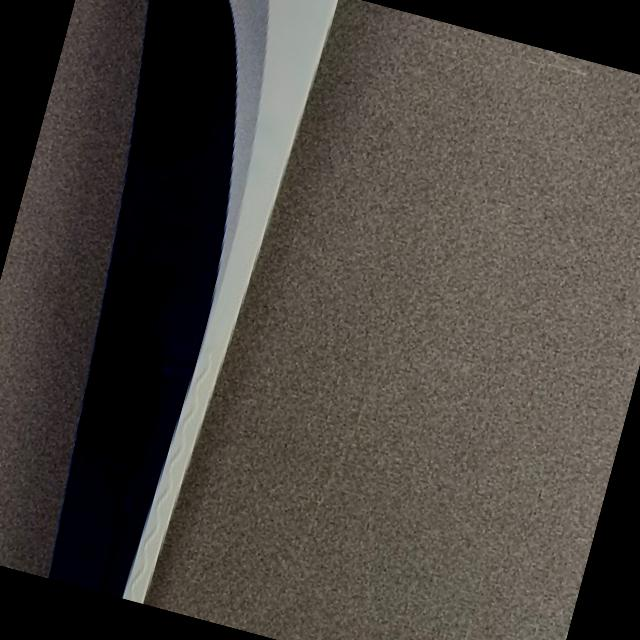healthy: (52, 0, 339, 602)
